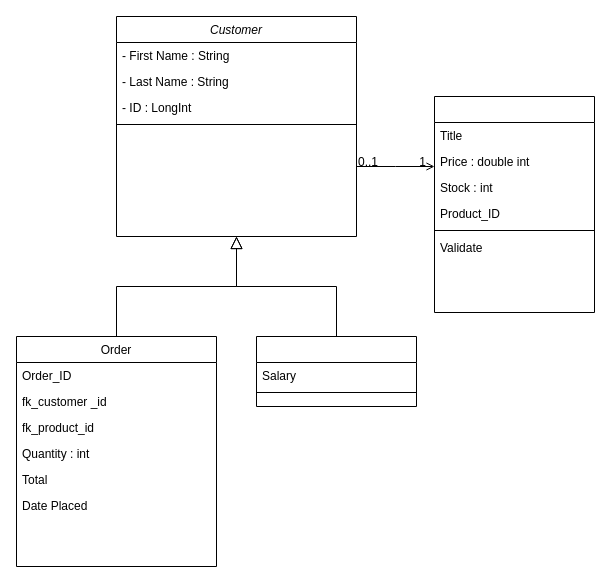
Some shapes in this 611 by 583 pixel diagram are drawn without their labels. The box of each missing label's shape, as (x1, y1, x2, y2) in pixels:
Items: (434, 96, 594, 312)
Orders_items: (256, 336, 416, 406)
